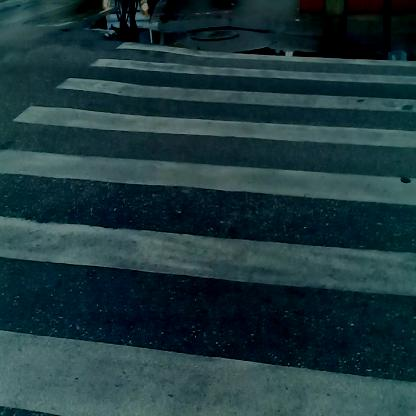crosswalk: (16, 53, 415, 416)
sidewalk: (101, 5, 416, 73)
